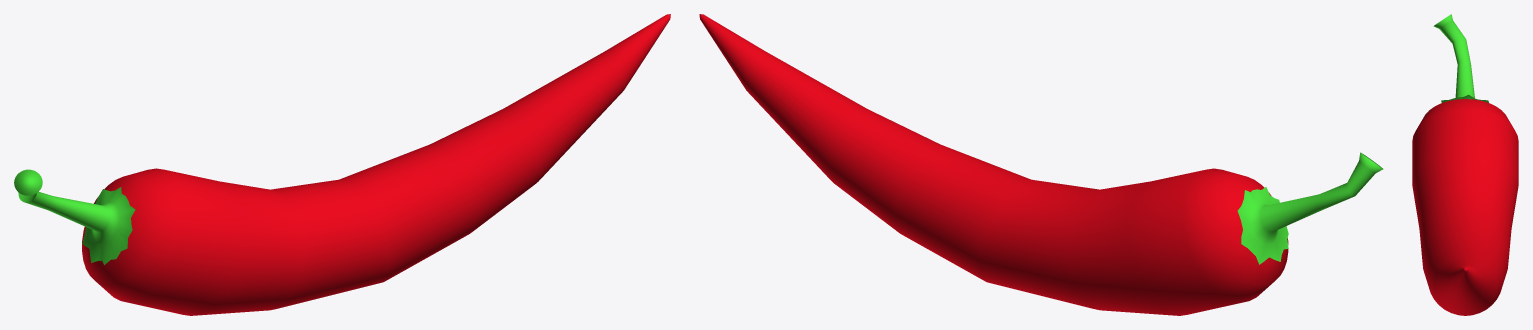
The model's file is pepper.fbx.
The picture shows the model from 3 angles, left to right: view 1: azimuth 30°, elevation 25°; view 2: azimuth 150°, elevation 25°; view 3: azimuth 270°, elevation 25°; orthographic projection. The views are drawn at different scales.
Parts seen in each view (by area): view 1: #chily; view 2: #chily; view 3: #chily.
Part boxes in pixels (x1=…): #chily: x1=14, y1=14, x2=670, y2=315; #chily: x1=699, y1=14, x2=1383, y2=315; #chily: x1=1412, y1=14, x2=1518, y2=315.
Bounding box in the file's own units: 329 × 95.2 × 58.97.
